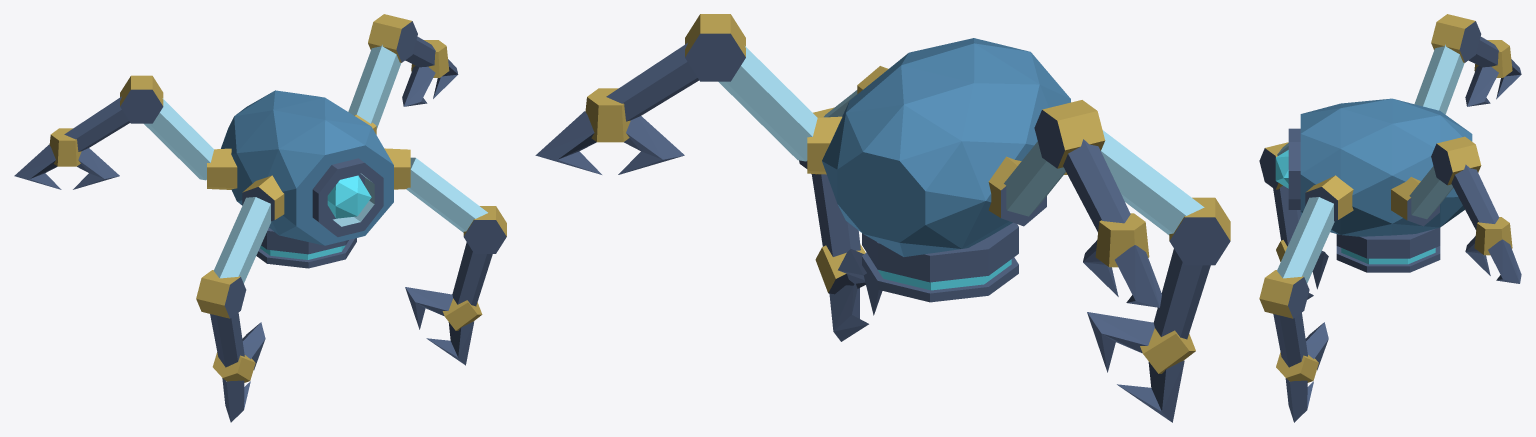
The model's file is companion-drone-1d073f.glb.
3 views of the same model, side by side, from view 1: azimuth 30°, elevation 25°; view 2: azimuth 150°, elevation 25°; view 3: azimuth 270°, elevation 25° (orthographic). The views are drawn at different scales.
Visible parts, largest first — view 1: body-matte, body-metal, arm-4-metal, arm-1-metal, arm-3-metal, arm-2-metal, arm-3-matte, arm-1-matte, arm-2-matte, arm-4-matte, core-crystal, body-crystal; view 2: body-matte, arm-2-metal, arm-3-metal, arm-4-metal, body-metal, arm-1-metal, arm-2-matte, arm-3-matte, arm-4-matte, body-crystal; view 3: body-matte, body-metal, arm-2-metal, arm-1-metal, arm-4-metal, arm-1-matte, arm-3-metal, arm-4-matte, arm-2-matte, body-crystal, core-crystal.
Boxes of the visible parts, left/top/right/bottom form: body-matte: left=221, top=90, right=393, bottom=245; body-metal: left=207, top=114, right=410, bottom=268; arm-4-metal: left=14, top=75, right=163, bottom=189; arm-1-metal: left=405, top=206, right=506, bottom=365; arm-3-metal: left=196, top=270, right=265, bottom=422; arm-2-metal: left=368, top=14, right=458, bottom=106; arm-3-matte: left=213, top=197, right=271, bottom=283; arm-1-matte: left=406, top=157, right=487, bottom=232; arm-2-matte: left=348, top=44, right=401, bottom=129; arm-4-matte: left=144, top=98, right=213, bottom=180; core-crystal: left=327, top=175, right=371, bottom=218; body-crystal: left=260, top=245, right=345, bottom=259; body-matte: left=822, top=38, right=1070, bottom=256; arm-2-metal: left=535, top=14, right=745, bottom=174; arm-3-metal: left=1087, top=197, right=1230, bottom=422; arm-4-metal: left=1034, top=100, right=1161, bottom=307; body-metal: left=807, top=66, right=1067, bottom=302; arm-1-metal: left=799, top=107, right=882, bottom=341; arm-2-matte: left=718, top=46, right=817, bottom=161; arm-3-matte: left=1101, top=130, right=1204, bottom=235; arm-4-matte: left=1004, top=141, right=1065, bottom=216; body-crystal: left=878, top=259, right=1011, bottom=290; body-matte: left=1300, top=98, right=1472, bottom=236; body-metal: left=1288, top=128, right=1440, bottom=272; arm-2-metal: left=1431, top=136, right=1521, bottom=283; arm-1-metal: left=1259, top=270, right=1328, bottom=422; arm-4-metal: left=1431, top=14, right=1521, bottom=106; arm-1-matte: left=1277, top=197, right=1334, bottom=283; arm-3-metal: left=1259, top=142, right=1328, bottom=299; arm-4-matte: left=1414, top=44, right=1464, bottom=114; arm-2-matte: left=1409, top=166, right=1453, bottom=219; body-crystal: left=1341, top=248, right=1435, bottom=264; core-crystal: left=1275, top=150, right=1288, bottom=188.
Size of the model in its own units: 0.5894 by 0.36 by 0.3024.
